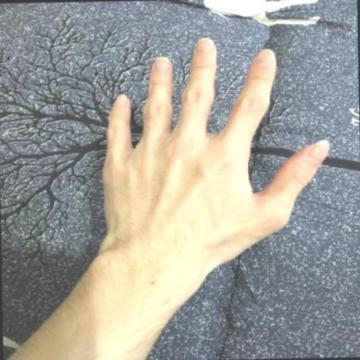hand: (97, 36, 331, 255)
